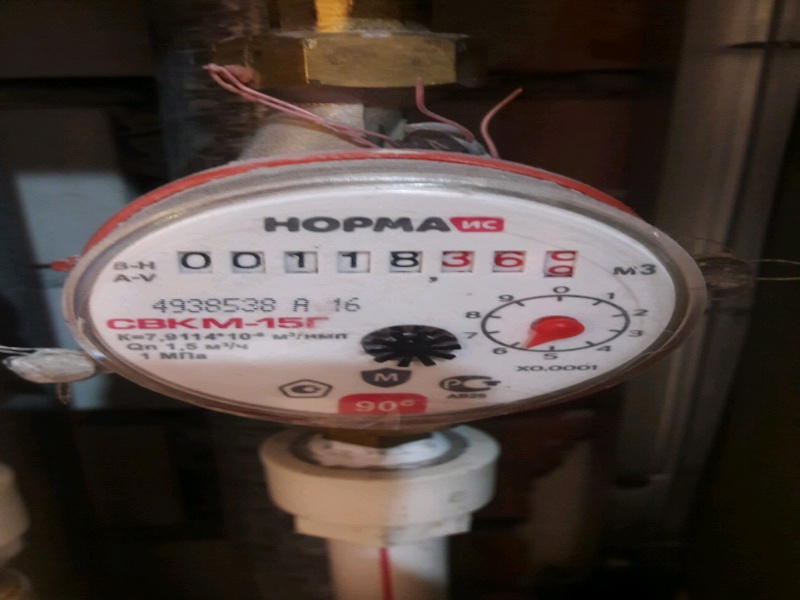meter: (164, 234, 591, 290)
